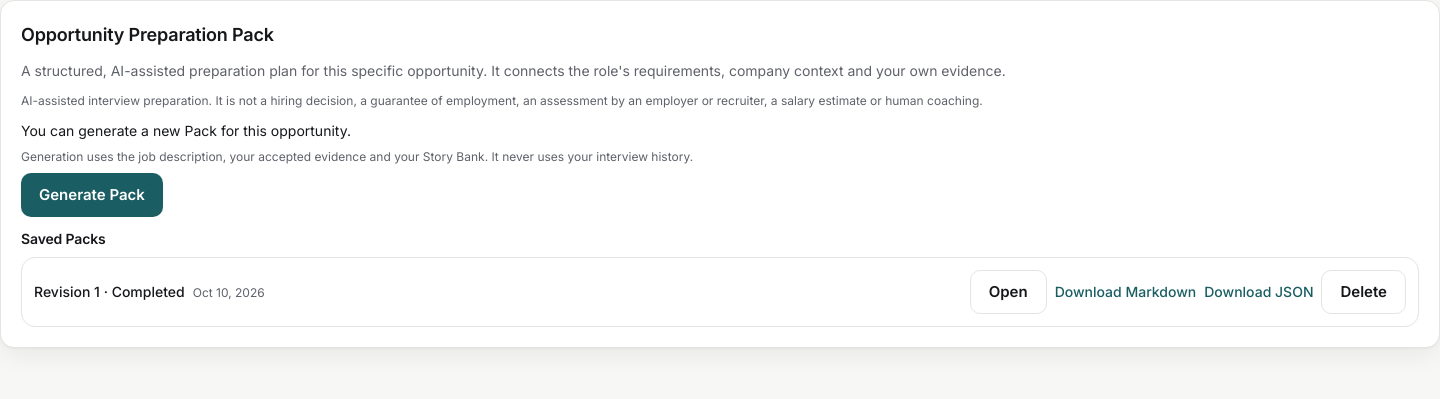
Scenario: Preparation Pack section (server-driven) › a refused generation shows a calm message and never changes the saved list
The width and height of the screenshot is (1440, 399).
What coordinates should you click on to do the following:
click the button "Generate Pack"
I would click on:
 (92, 195)
Its box is left=21, top=173, right=163, bottom=217.
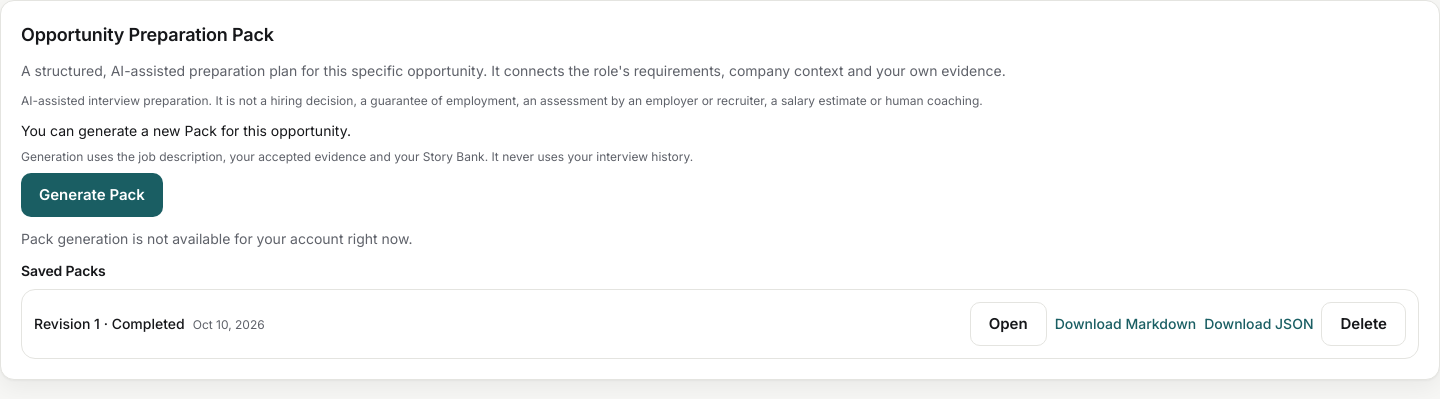
Check: the number of list items is 1, box left=21, top=289, right=1419, bottom=359
Check: the message reads "Pack generation is not available for your account right now.", box left=21, top=230, right=412, bottom=247
